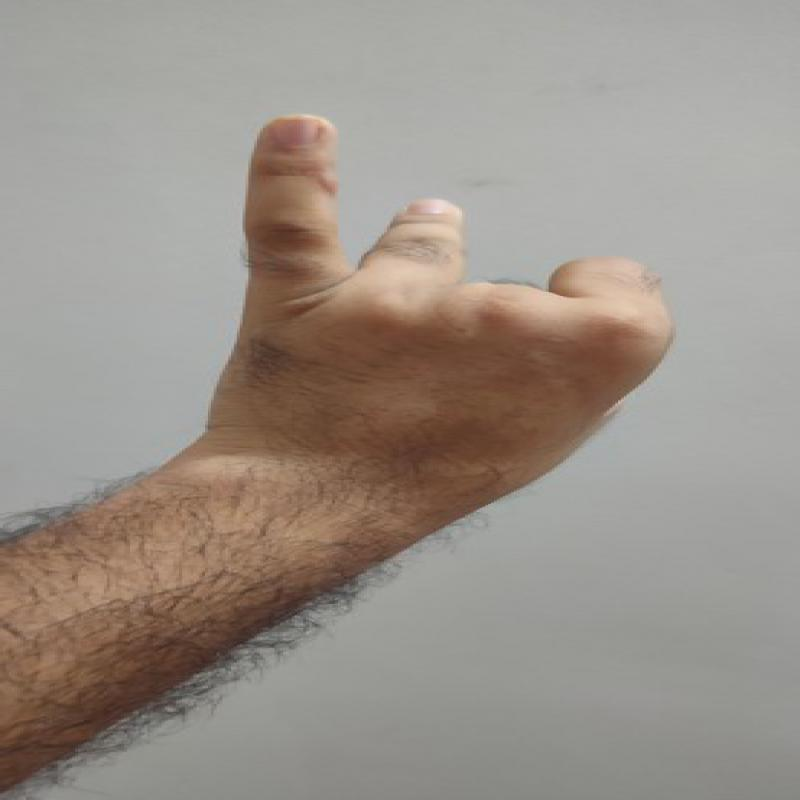Katakam: (190, 81, 699, 573)
